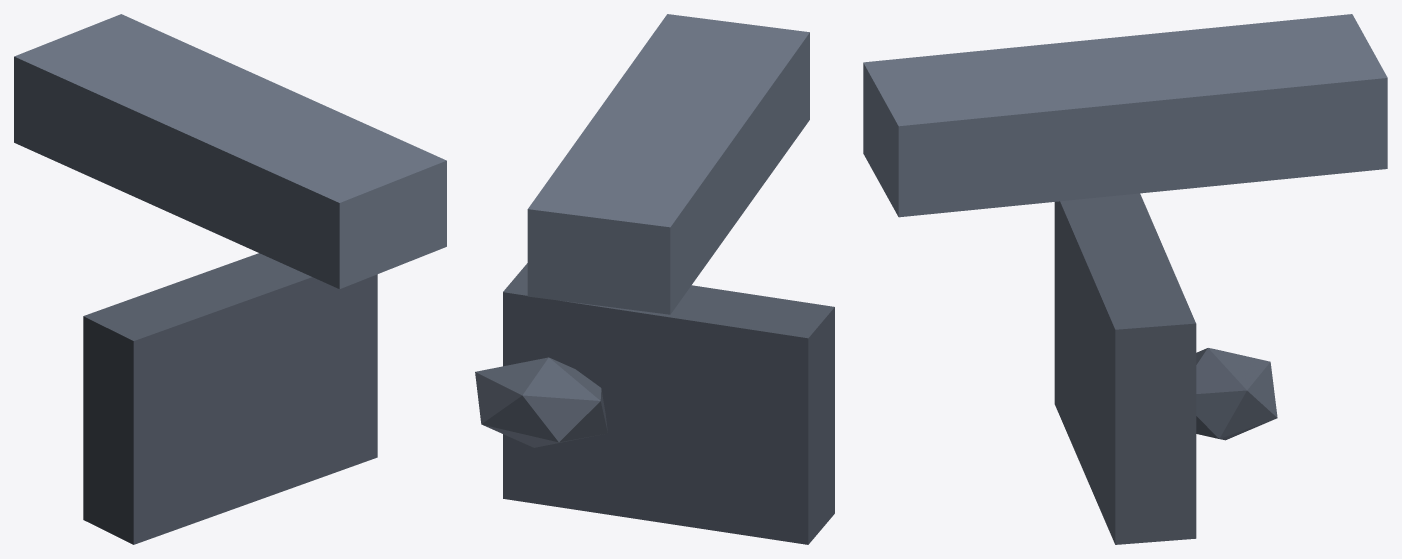
File: EXTW_SouthMarker_01.glb
3 renders of one model, left to right at view 1: azimuth 30°, elevation 25°; view 2: azimuth 150°, elevation 25°; view 3: azimuth 270°, elevation 25°, orthographic. The views are drawn at different scales.
Parts seen in each view (by area): view 1: EXTW_SouthMarker_01; view 2: EXTW_SouthMarker_01; view 3: EXTW_SouthMarker_01.
Boxes of the visible parts, x1,y1,x2,y2 form: EXTW_SouthMarker_01: (14,14,446,544); EXTW_SouthMarker_01: (475,14,834,544); EXTW_SouthMarker_01: (863,14,1387,544).
Size of the model in its own units: 0.7603 by 0.97 by 1.15.
